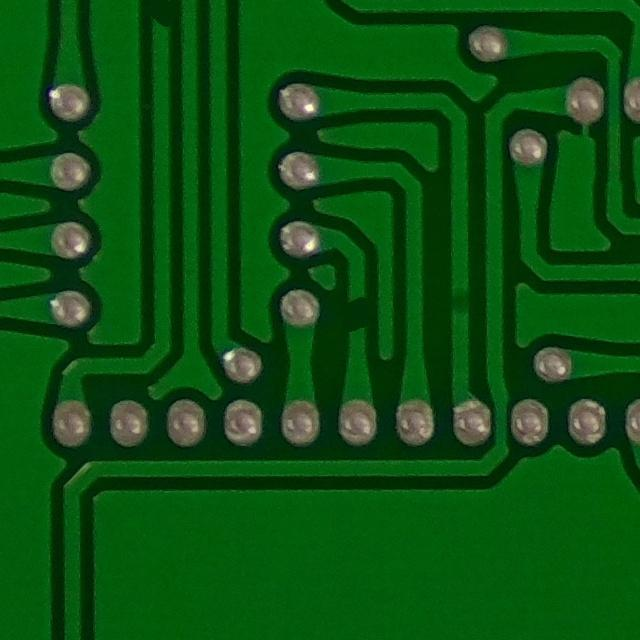open_circuit: (339, 288, 373, 342), (144, 0, 176, 42)
